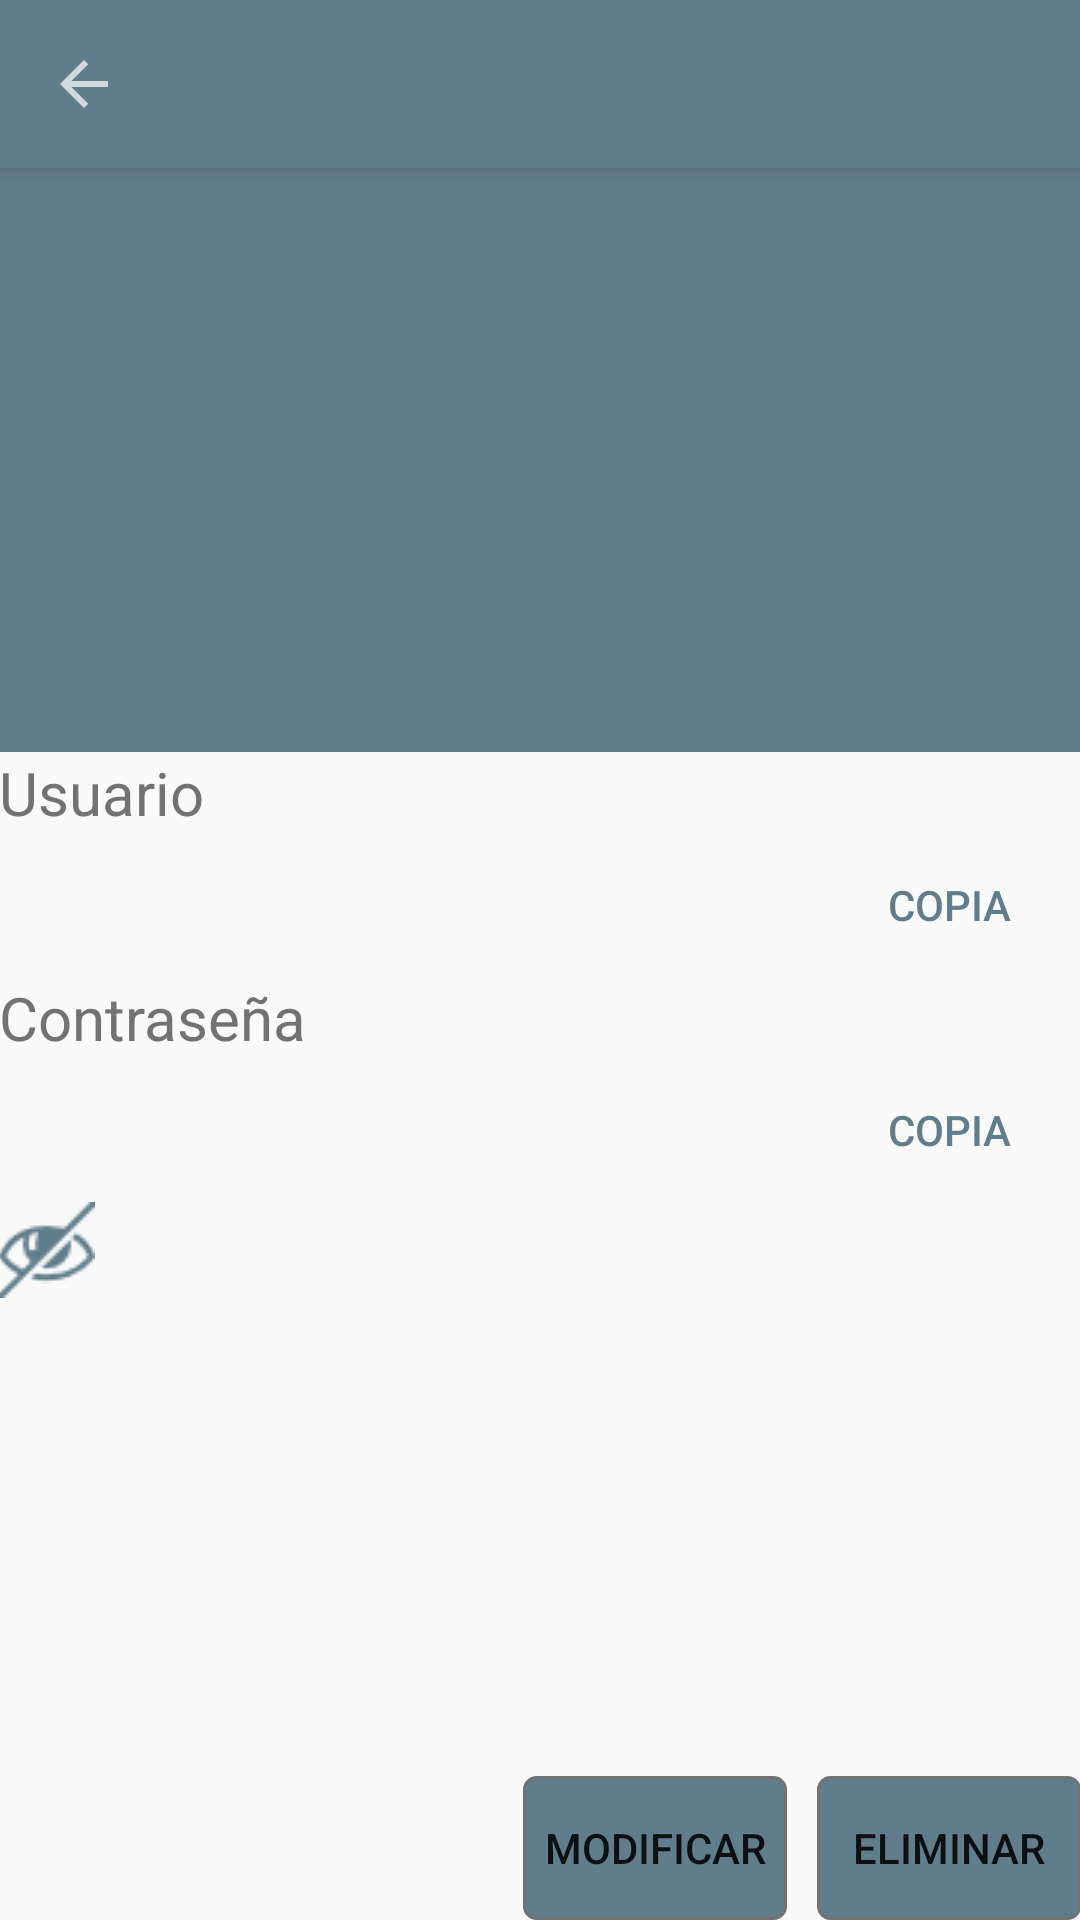

Where to tap for icons on this 1080px x 1920px app screen, as [x,y]:
ojo tachado: [47,1250]
